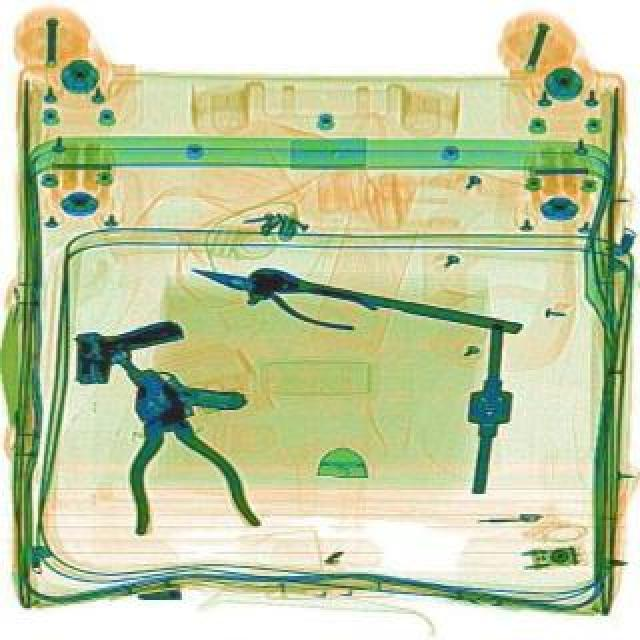gun: (112, 308, 254, 444), (70, 316, 196, 386)
wrench: (92, 354, 266, 558), (190, 250, 382, 338)
